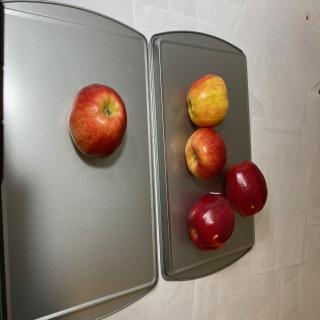Apple: (68, 84, 127, 158), (188, 192, 235, 252), (225, 160, 268, 217), (185, 127, 228, 180), (186, 74, 228, 128)
